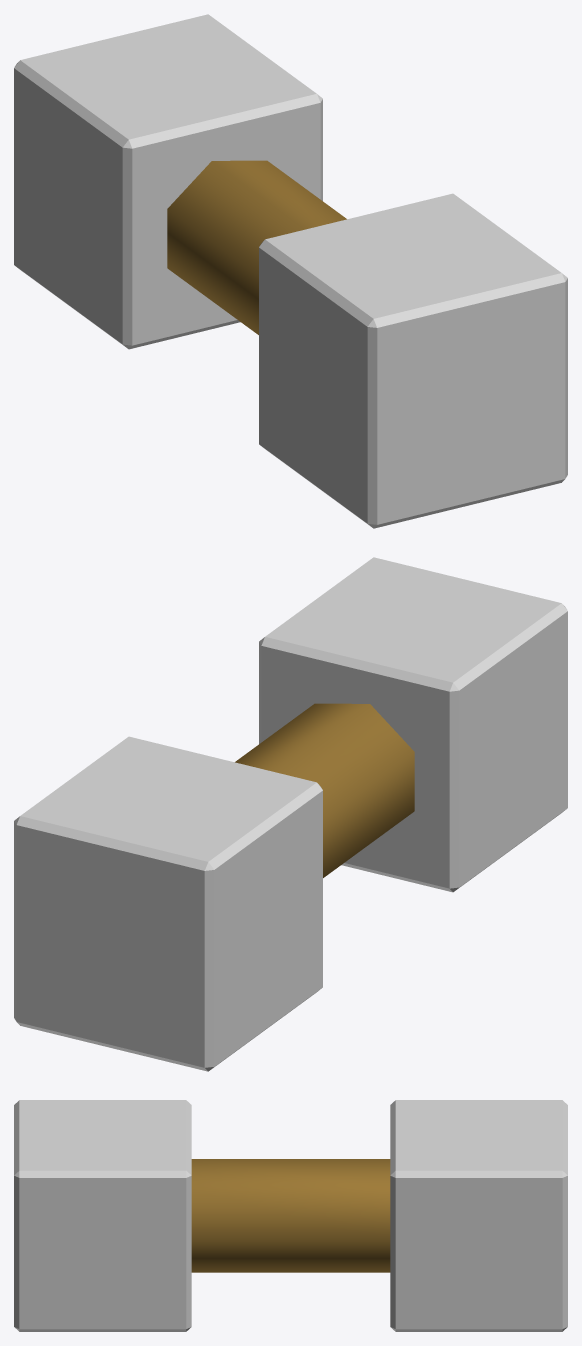
File: R4C_STRUT_STANDARD_LOD1.fbx
3 views of the same model, one above another, from view 1: azimuth 30°, elevation 25°; view 2: azimuth 150°, elevation 25°; view 3: azimuth 270°, elevation 25° (orthographic). The views are drawn at different scales.
Visible parts, largest first — view 1: R4C_STRUT_STANDARD_LOD1; view 2: R4C_STRUT_STANDARD_LOD1; view 3: R4C_STRUT_STANDARD_LOD1.
Boxes of the visible parts, box(x1,y1,x2,y2) form: R4C_STRUT_STANDARD_LOD1: box(14, 14, 567, 528); R4C_STRUT_STANDARD_LOD1: box(14, 557, 567, 1071); R4C_STRUT_STANDARD_LOD1: box(14, 1100, 567, 1331).
Size of the model in its own units: 0.52 by 0.52 by 1.62.
